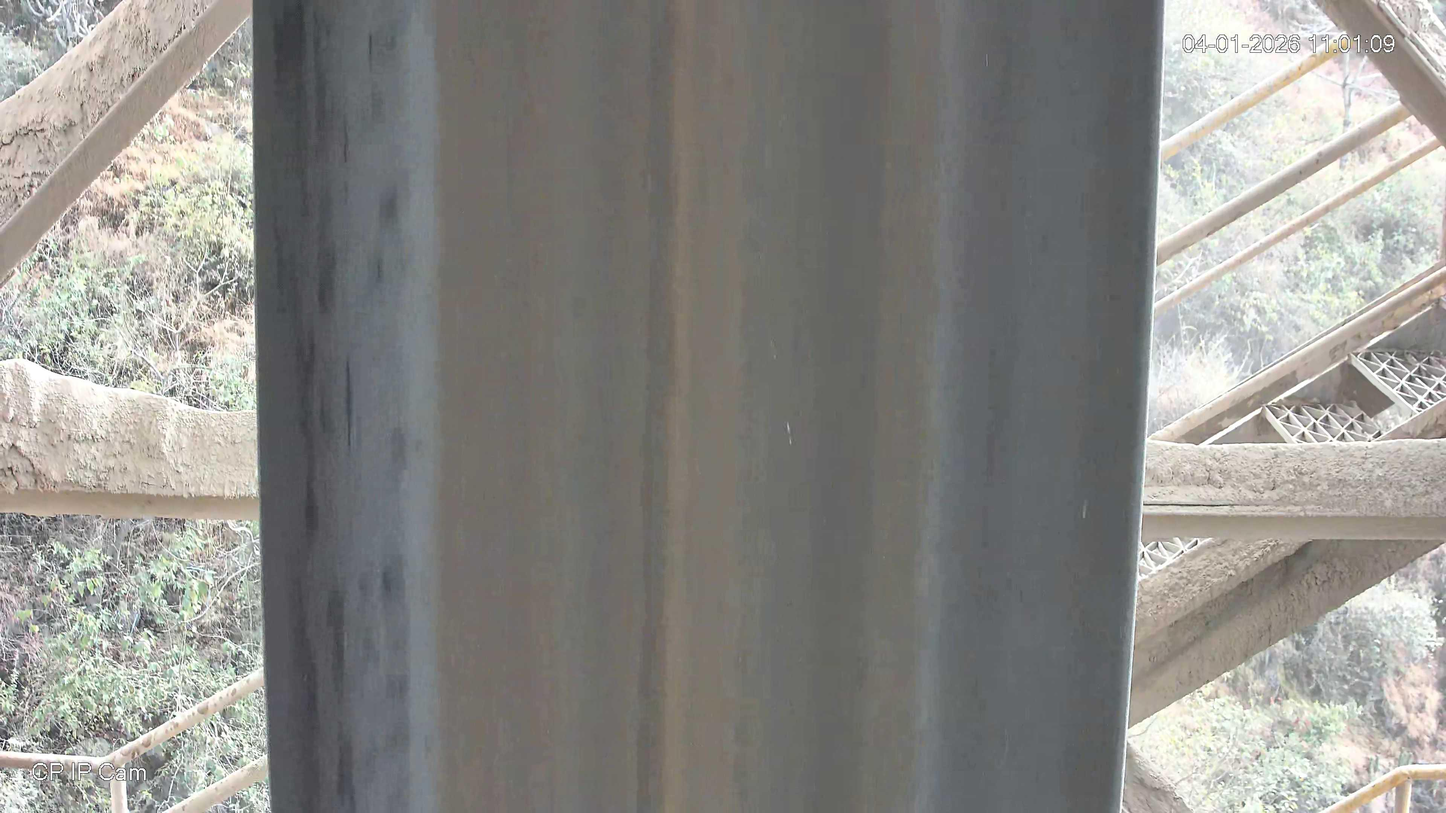belt_roi: (248, 0, 1168, 813)
